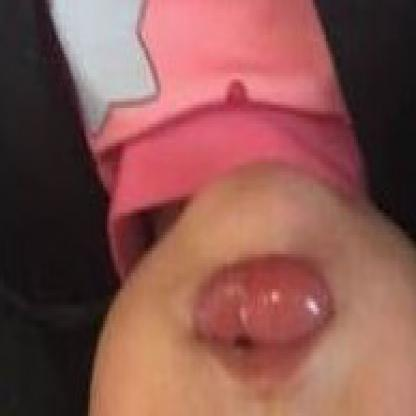Wasp: (191, 264, 337, 350)
